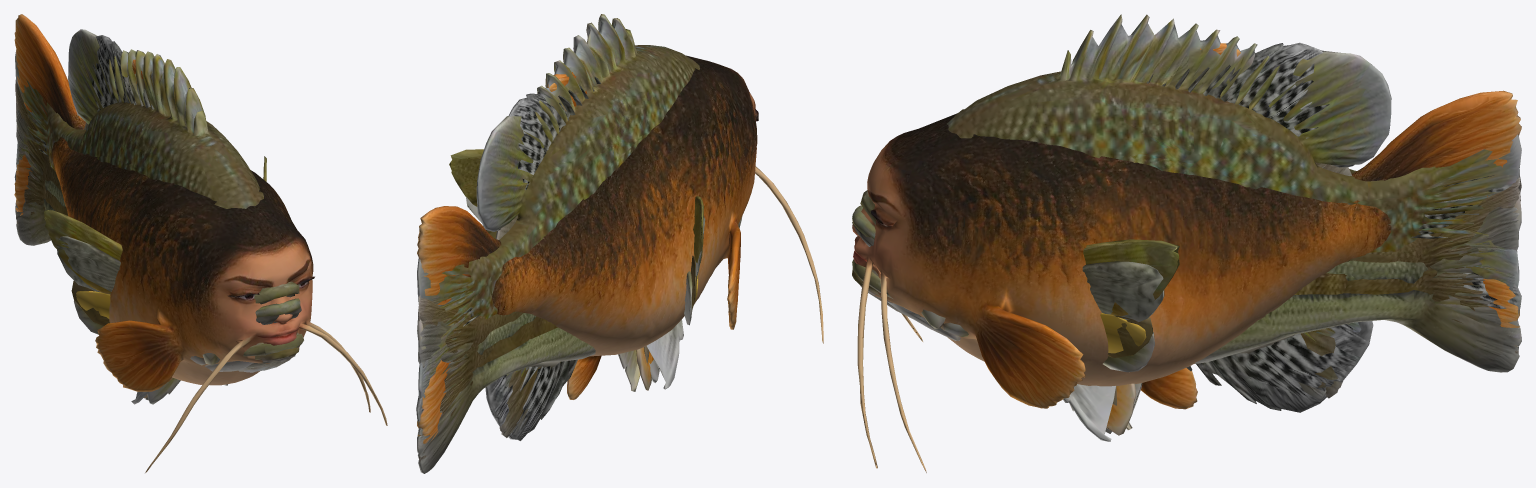
File: fish.glb
3 renders of one model, left to right at view 1: azimuth 30°, elevation 25°; view 2: azimuth 150°, elevation 25°; view 3: azimuth 270°, elevation 25°, orthographic. The views are drawn at different scales.
Parts seen in each view (by area): view 1: fish-jenna-catfish, fish-sunfish, fish-crappie, fish-largemouth-bass, fish-smallmouth-bass, fish-yellow-perch; view 2: fish-jenna-catfish, fish-sunfish, fish-largemouth-bass, fish-crappie, fish-smallmouth-bass, fish-yellow-perch; view 3: fish-jenna-catfish, fish-sunfish, fish-crappie, fish-largemouth-bass, fish-smallmouth-bass, fish-yellow-perch.
Boxes of the visible parts, box(x1,y1,x2,y2) form: fish-jenna-catfish: box(14, 14, 387, 472); fish-sunfish: box(15, 29, 300, 317); fish-crappie: box(14, 35, 301, 404); fish-largemouth-bass: box(15, 109, 303, 404); fish-smallmouth-bass: box(15, 80, 299, 400); fish-yellow-perch: box(16, 98, 298, 398); fish-jenna-catfish: box(417, 55, 823, 443); fish-sunfish: box(417, 14, 703, 398); fish-largemouth-bass: box(417, 216, 742, 473); fish-crappie: box(416, 76, 705, 440); fish-smallmouth-bass: box(418, 215, 697, 462); fish-yellow-perch: box(417, 275, 698, 390); fish-jenna-catfish: box(852, 43, 1521, 472); fish-sunfish: box(852, 14, 1521, 430); fish-crappie: box(852, 42, 1521, 441); fish-largemouth-bass: box(852, 165, 1521, 411); fish-smallmouth-bass: box(852, 162, 1521, 433); fish-yellow-perch: box(861, 194, 1521, 435).
Bounding box in the file's own units: 0.4843 × 0.6546 × 1.
6 materials, 6 textured.
